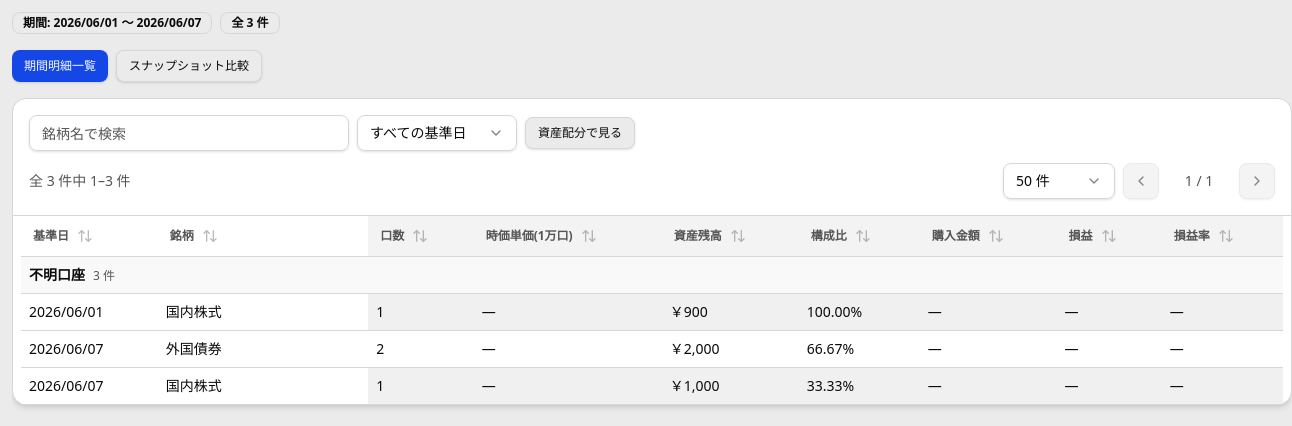
Test: HoldingsDetailPanel › filters range rows by instrument search
The width and height of the screenshot is (1292, 426).
Expected: the text "国内株式" is shown 2 times, left=158, top=293, right=368, bottom=330; left=158, top=367, right=368, bottom=404
Expected: the text "外国債券" is shown, left=158, top=330, right=368, bottom=367
Type "株式" into the search field labelled "銘柄名で検索" at coordinates (189, 133), box left=29, top=115, right=349, bottom=151
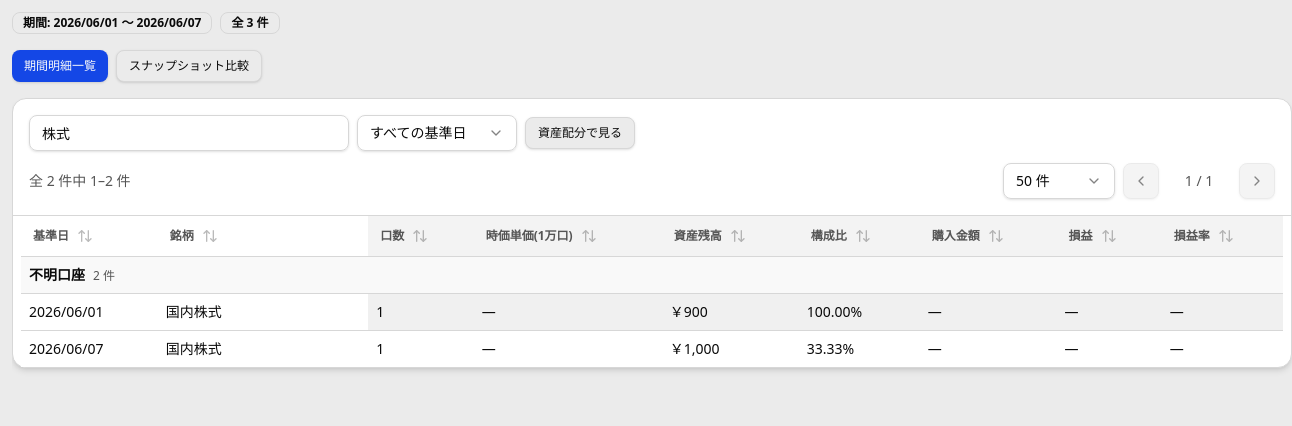
Now the text "国内株式" is shown 2 times, box left=158, top=293, right=368, bottom=330; left=158, top=330, right=368, bottom=366
Now the text "外国債券" is gone
